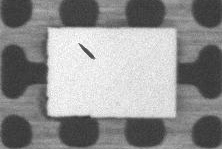DIE_INK: (115, 28, 145, 41)
